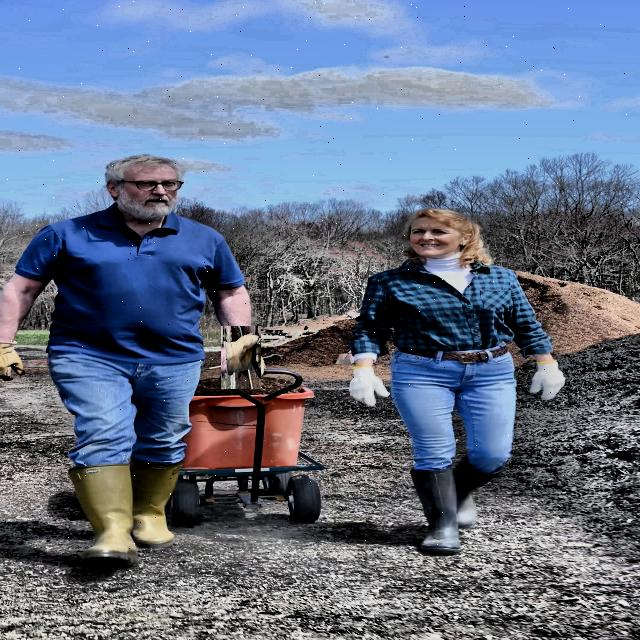gloved: (0, 332, 44, 394), (215, 331, 267, 383), (339, 362, 395, 408), (527, 356, 570, 404)
